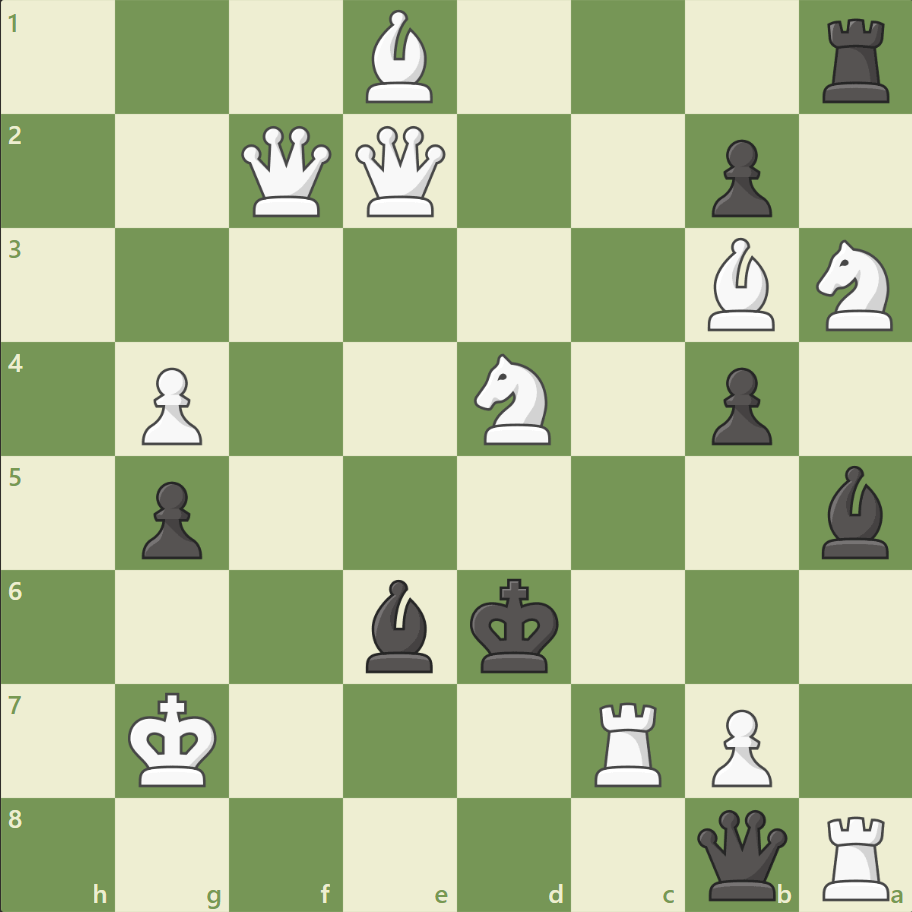B: (698, 233, 782, 336), (358, 6, 442, 109)
K: (124, 685, 224, 793)
N: (806, 234, 903, 337), (465, 348, 562, 450)
P: (701, 700, 776, 791), (133, 359, 208, 450)
Q: (351, 122, 450, 222), (237, 122, 336, 222)
R: (814, 806, 897, 904), (587, 693, 670, 790)
b: (812, 460, 896, 563), (358, 574, 442, 676)
k: (465, 571, 565, 679)
p: (133, 473, 208, 564), (701, 359, 776, 450), (701, 132, 776, 223)
q: (691, 804, 790, 903)
r: (814, 12, 897, 109)
